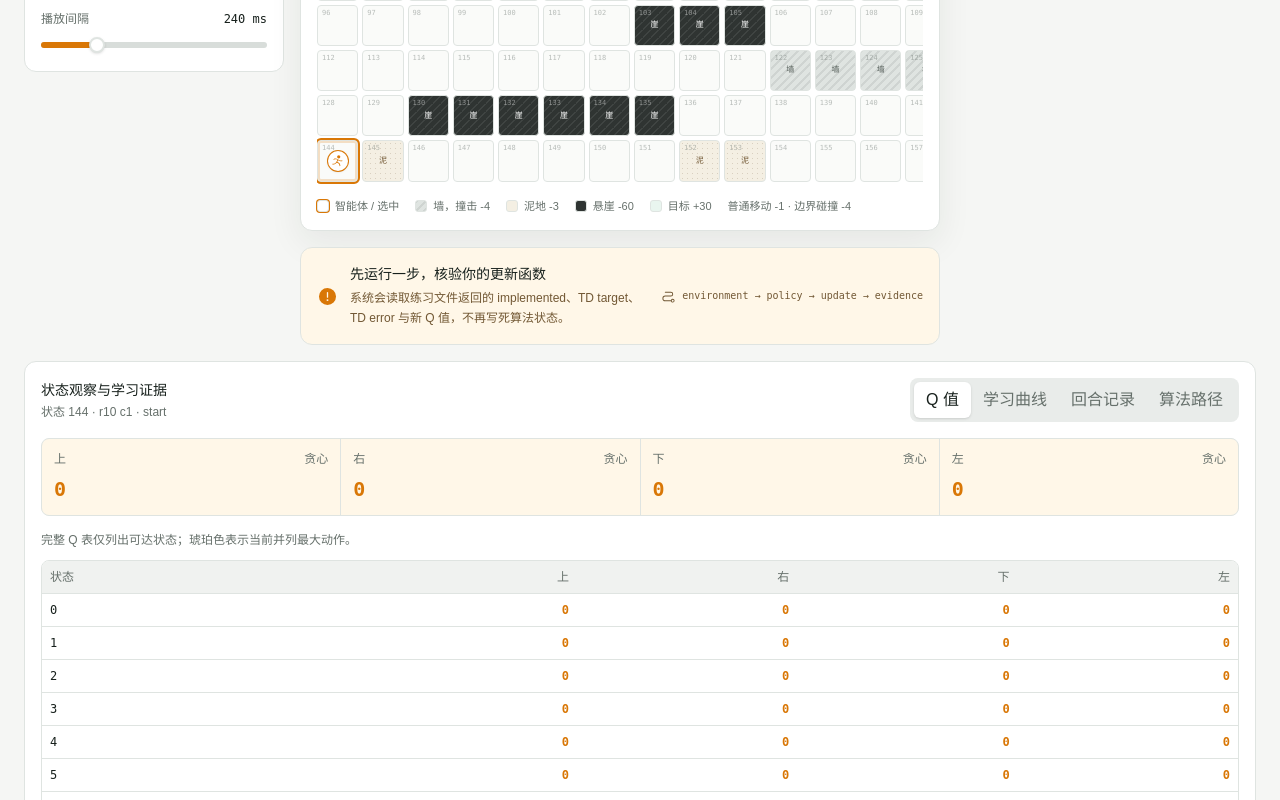
Test: RL Navigation Lab › shows the reusable evidence contract for future algorithms
(page scrolled)
What coordinates should you click on to do the following:
click the tab "算法路径"
I would click on:
 (1191, 400)
Its box is [1147, 382, 1235, 418].
(page scrolled)
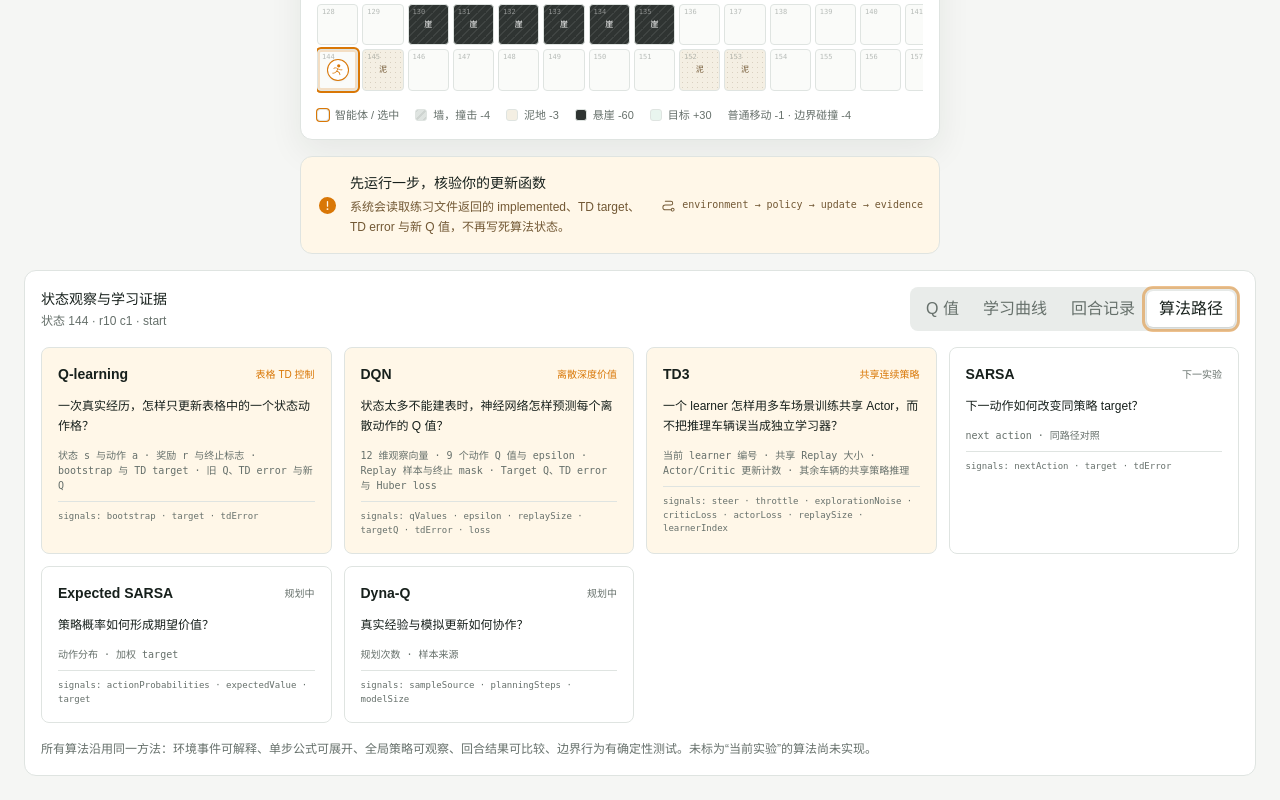
Expected: the text "signals: bootstrap · target · tdError" is shown, [58, 501, 314, 524]
Expected: the text "signals: nextAction · target · tdError" is shown, [966, 451, 1222, 474]
Expected: the text "未标为“当前实验”的算法尚未实现" is shown, [41, 742, 877, 756]
